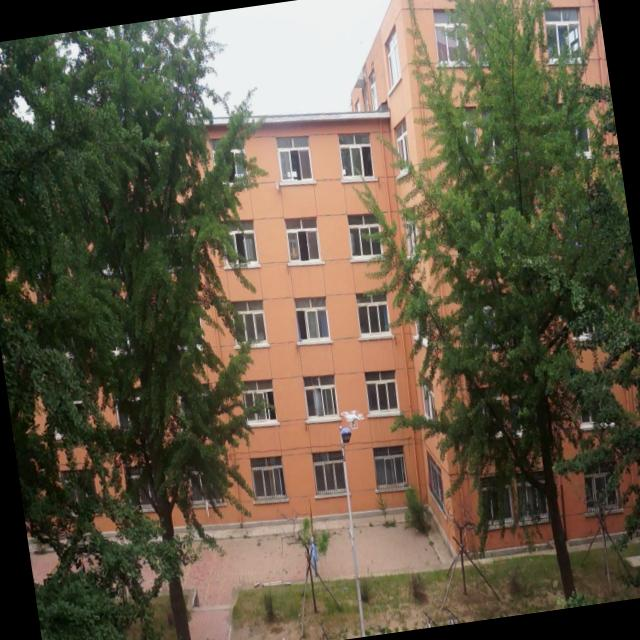drone: (338, 404, 366, 433)
